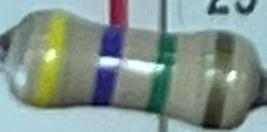Blue: (93, 27, 124, 104)
Green: (149, 32, 179, 115)
Side-Silver: (203, 33, 234, 128)
Yellow: (33, 10, 68, 107)
